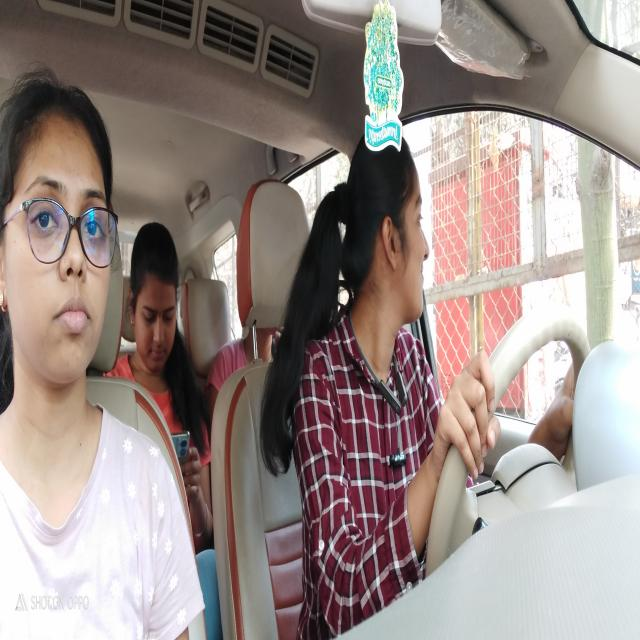LeftRight: (341, 121, 432, 332)
person: (0, 72, 118, 399), (126, 225, 185, 378)
